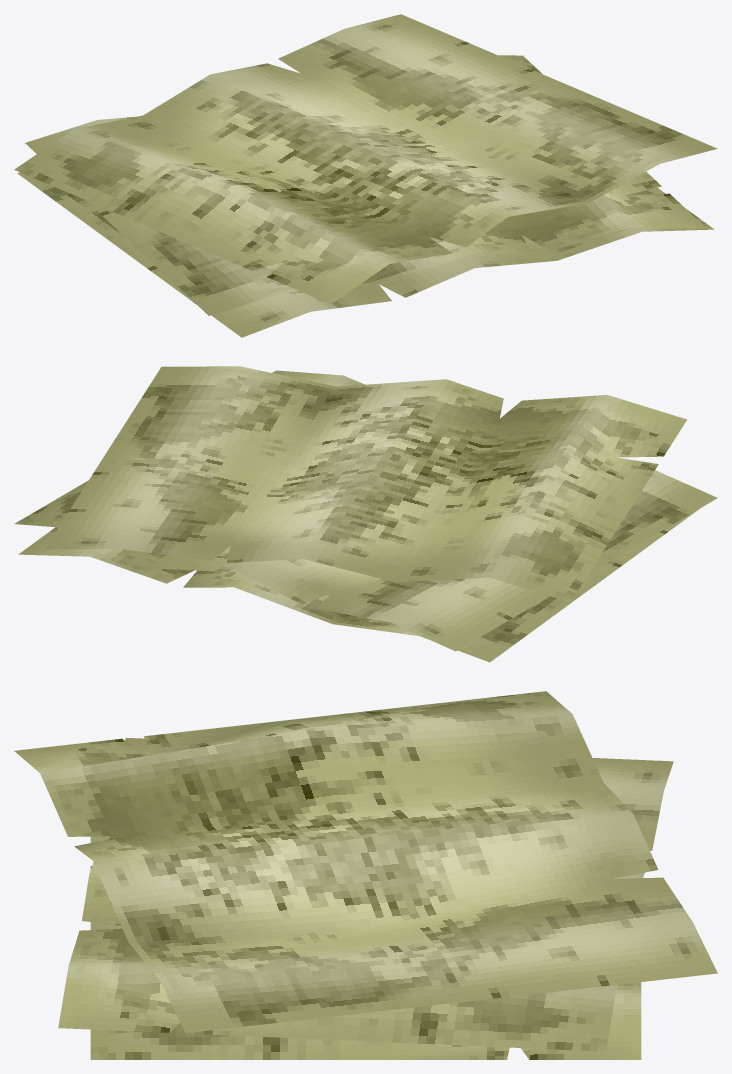
Rendered from a_SWImap03_03.glb.
The picture shows the model from 3 angles, top to bottom: view 1: azimuth 30°, elevation 25°; view 2: azimuth 150°, elevation 25°; view 3: azimuth 270°, elevation 25°; orthographic projection. The views are drawn at different scales.
Visible parts, largest first — view 1: a_SWImap03_03; view 2: a_SWImap03_03; view 3: a_SWImap03_03.
Part boxes in pixels (bbox=[...]): a_SWImap03_03: bbox=[14, 14, 717, 337]; a_SWImap03_03: bbox=[14, 366, 717, 662]; a_SWImap03_03: bbox=[14, 691, 717, 1059].
Size of the model in its own units: 0.8037 by 0.1154 by 0.7177.
Materials: 1 (1 with a texture image).
